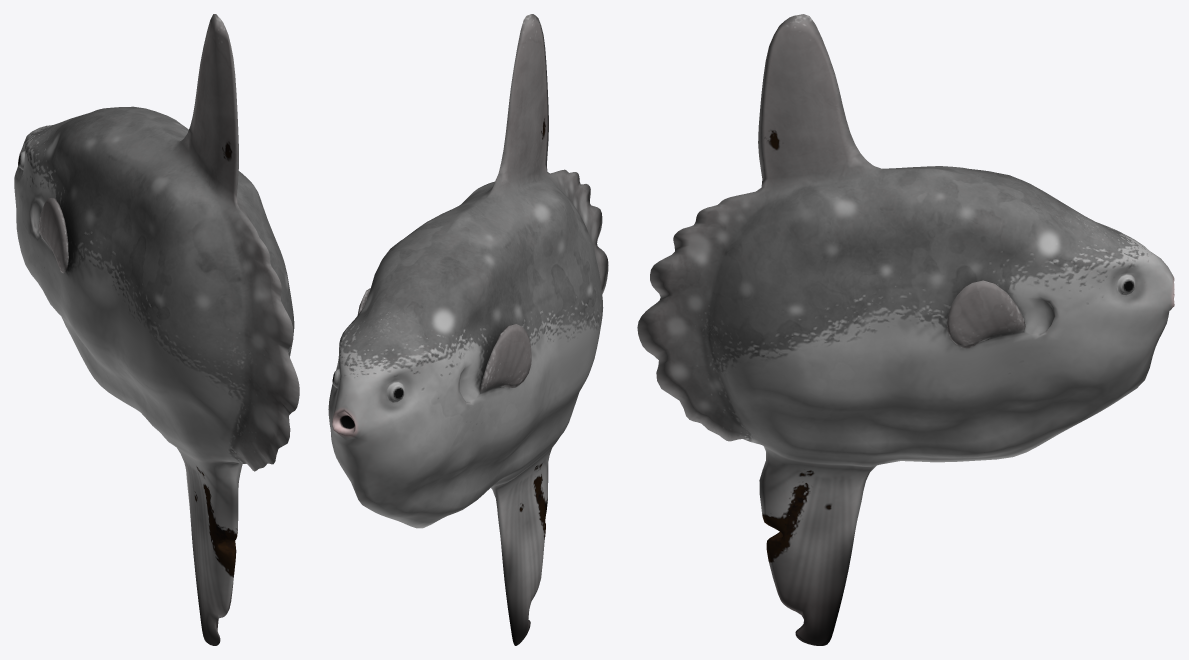
The model's file is sunfish__poisson_lune.glb.
3 views of the same model, side by side, from view 1: azimuth 30°, elevation 25°; view 2: azimuth 150°, elevation 25°; view 3: azimuth 270°, elevation 25° (orthographic).
Visible parts, largest first — view 1: Cube; view 2: Cube; view 3: Cube.
Part boxes in pixels (box(x1,y1,x2,y2)): Cube: box(14, 14, 299, 645); Cube: box(328, 14, 608, 645); Cube: box(637, 14, 1174, 645).
Bounding box in the file's own units: 146 × 562 × 433.
1 material, 1 textured.
